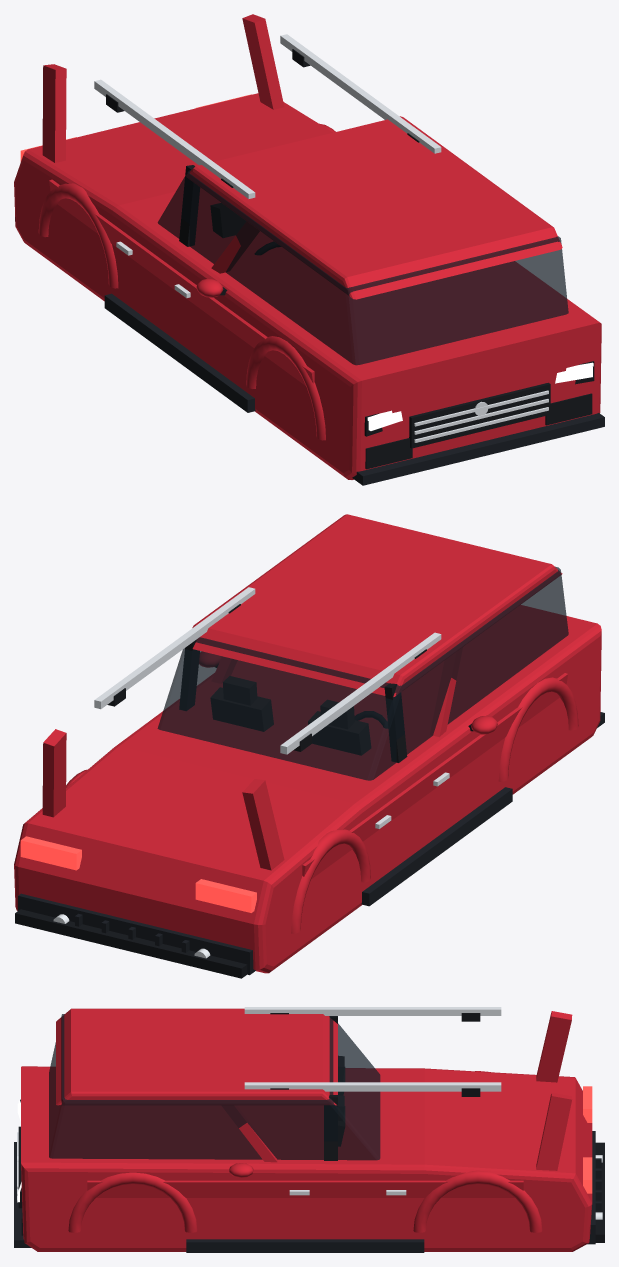
The model's file is car_suv.glb.
The picture shows the model from 3 angles, top to bottom: view 1: azimuth 30°, elevation 25°; view 2: azimuth 150°, elevation 25°; view 3: azimuth 270°, elevation 25°; orthographic projection. The views are drawn at different scales.
Visible parts, largest first — view 1: car_suv; view 2: car_suv; view 3: car_suv.
Boxes of the visible parts, left/top/right/bottom form: car_suv: left=14, top=14, right=604, bottom=485; car_suv: left=14, top=514, right=604, bottom=978; car_suv: left=14, top=1007, right=604, bottom=1252.
Bounding box in the file's own units: 2.44 × 1.49 × 5.07.
